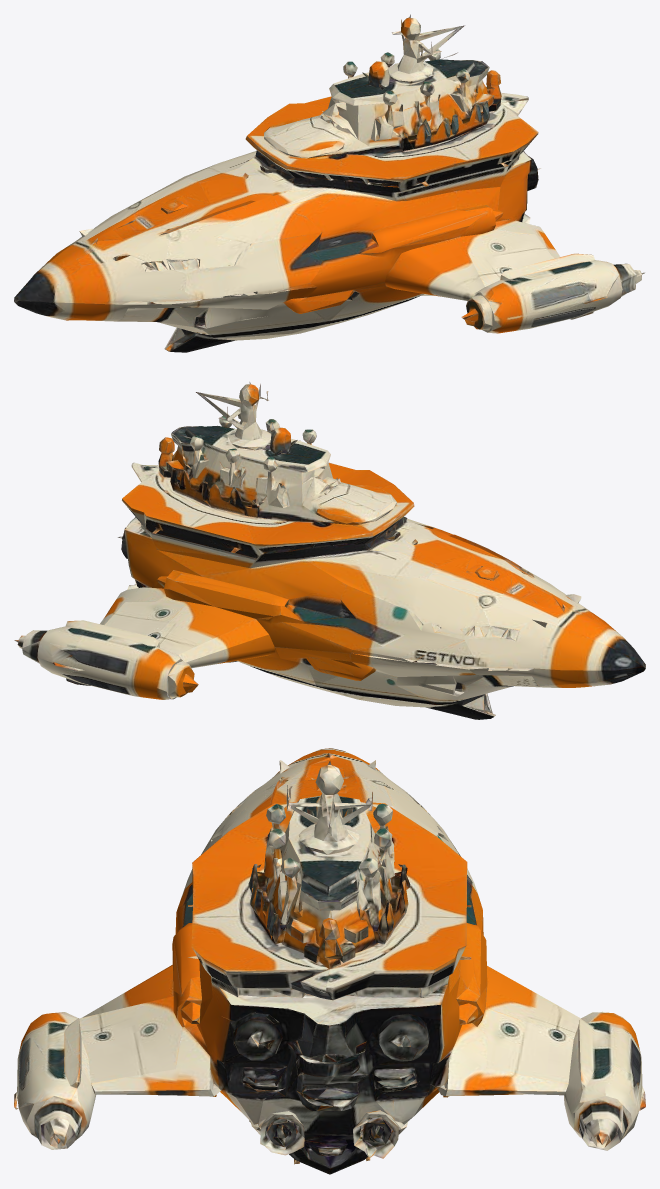
File: nation-e-carrier.glb
3 renders of one model, top to bottom at view 1: azimuth 30°, elevation 25°; view 2: azimuth 150°, elevation 25°; view 3: azimuth 270°, elevation 25°, orthographic. The views are drawn at different scales.
Bounding box in the file's own units: 1.9 × 0.9639 × 1.44.
1 material, 1 textured.
